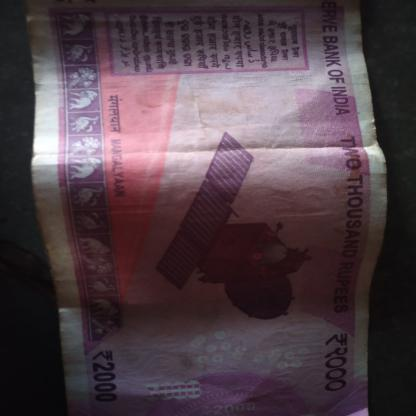New2000Back: (32, 3, 376, 415)
